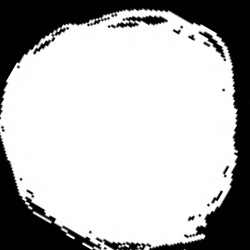spot: (1, 9, 238, 248)
